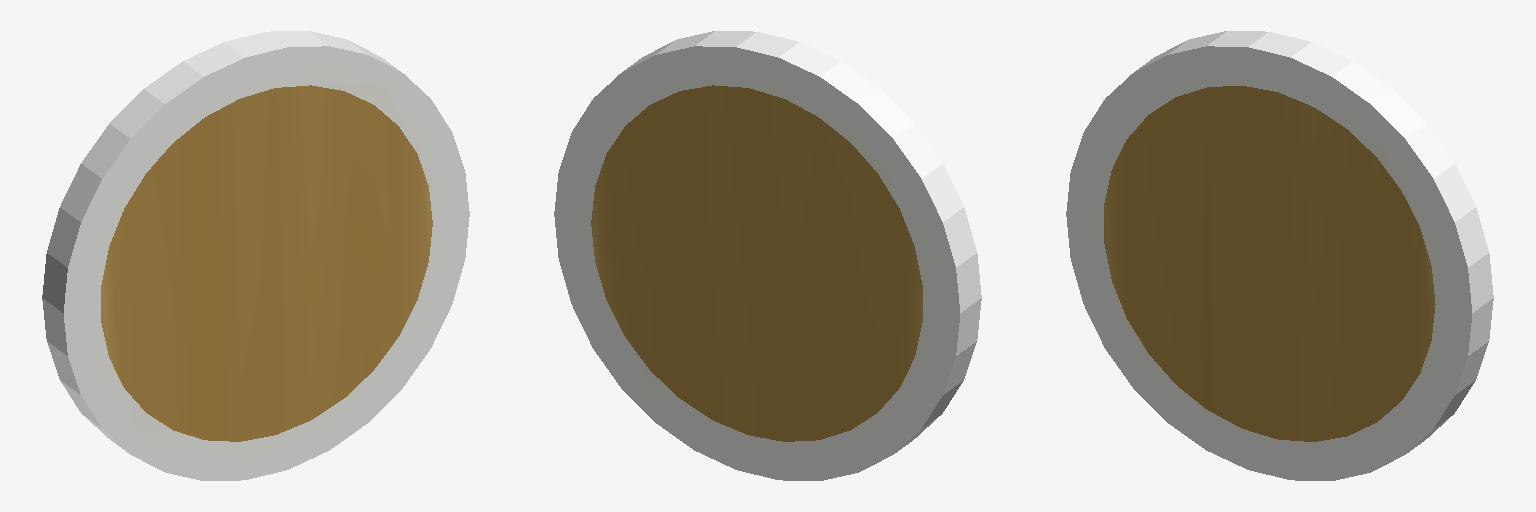
3 renders of one model, left to right at view 1: azimuth 30°, elevation 25°; view 2: azimuth 150°, elevation 25°; view 3: azimuth 330°, elevation 25°, orthographic.
Size of the model in its own units: 1 by 0.9945 by 0.0909.
1 materials, 1 textured.